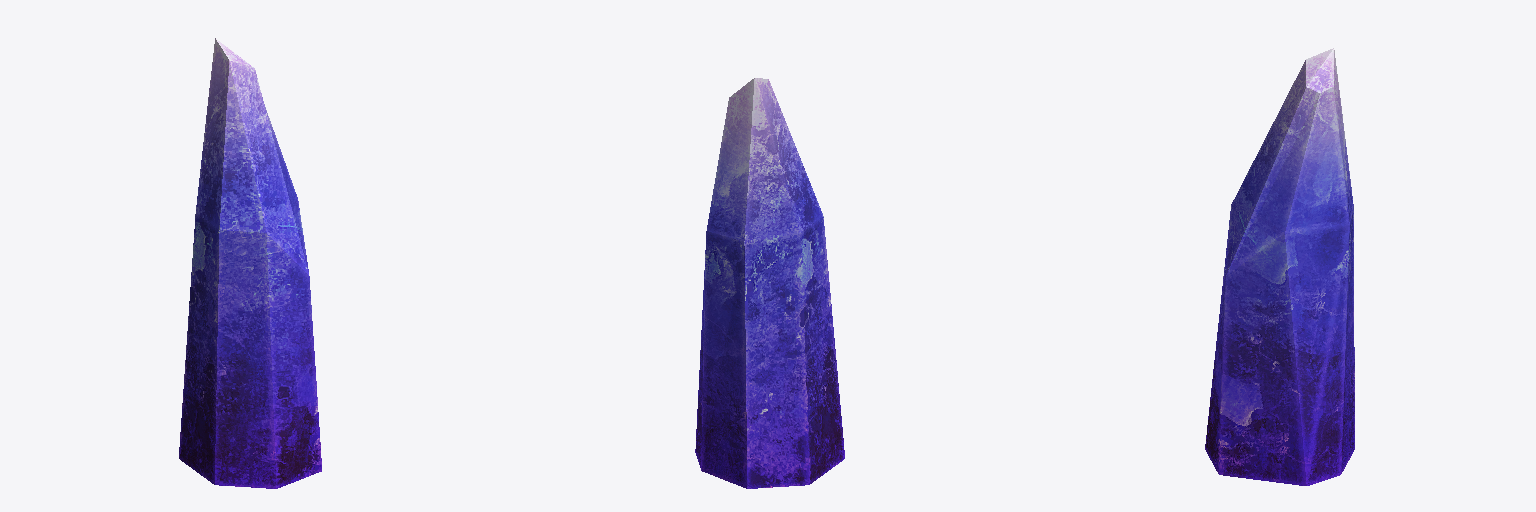
The picture shows the model from 3 angles: view 1: azimuth 30°, elevation 25°; view 2: azimuth 150°, elevation 25°; view 3: azimuth 270°, elevation 25°; orthographic projection.
Visible parts, largest first — view 1: crystal_small01_var2; view 2: crystal_small01_var2; view 3: crystal_small01_var2.
Part boxes in pixels (left/top/right/bottom): crystal_small01_var2: left=179, top=38, right=321, bottom=488; crystal_small01_var2: left=695, top=78, right=844, bottom=488; crystal_small01_var2: left=1205, top=48, right=1354, bottom=485.
Size of the model in its own units: 20.27 by 65.81 by 22.22.
Materials: 1 (1 with a texture image).